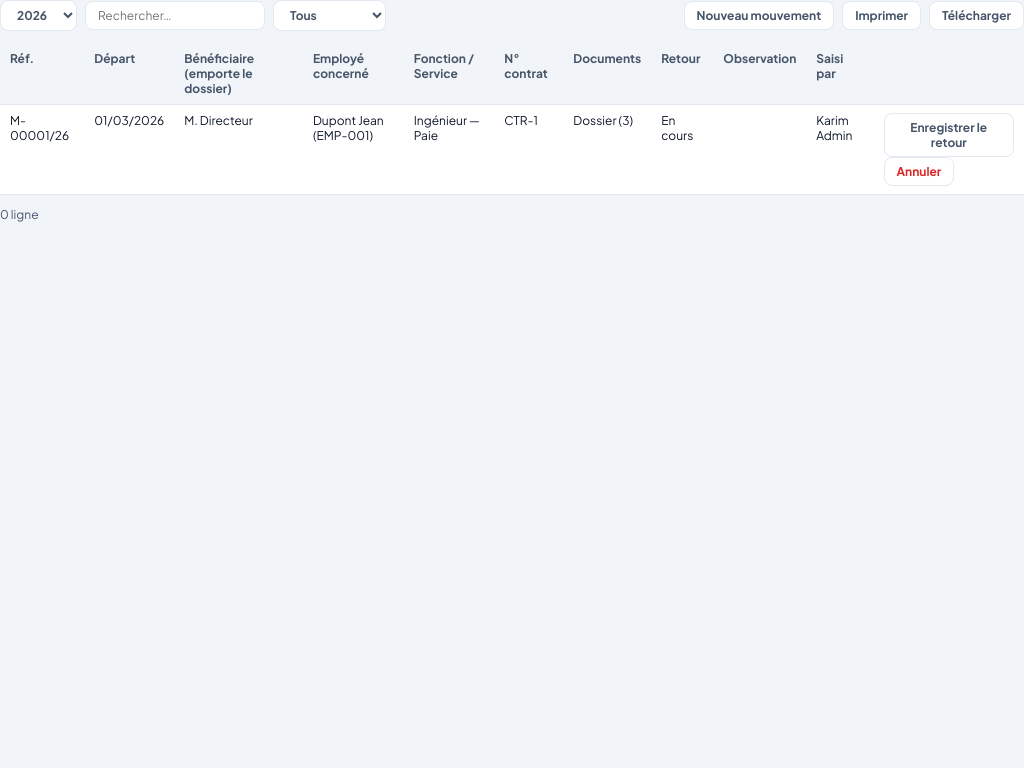
Test: MouvementsPanel — suppression définitive et messages d'erreur › le vrai message du serveur est affiché (erreur renvoyée sous forme de liste)
This screenshot has width=1024, height=768.
Click the button with aria-label "Annuler la ligne": (919, 172) left=884, top=157, right=954, bottom=186
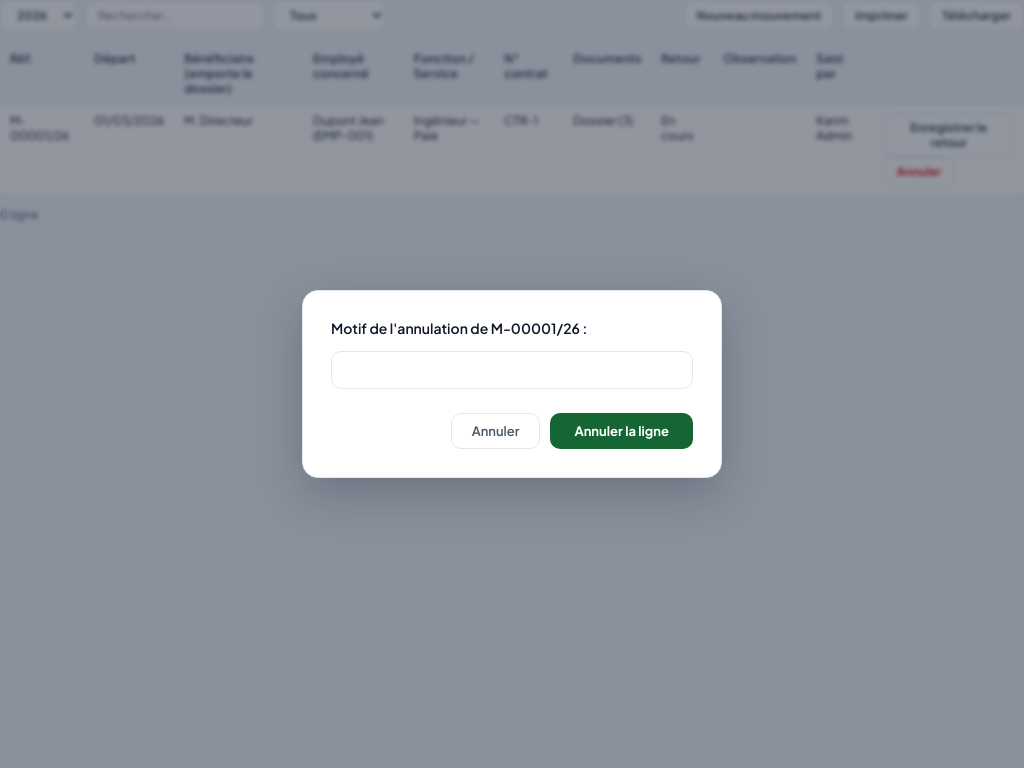
In the field: (512, 370) left=331, top=351, right=693, bottom=389, type "x"
Then press Enter
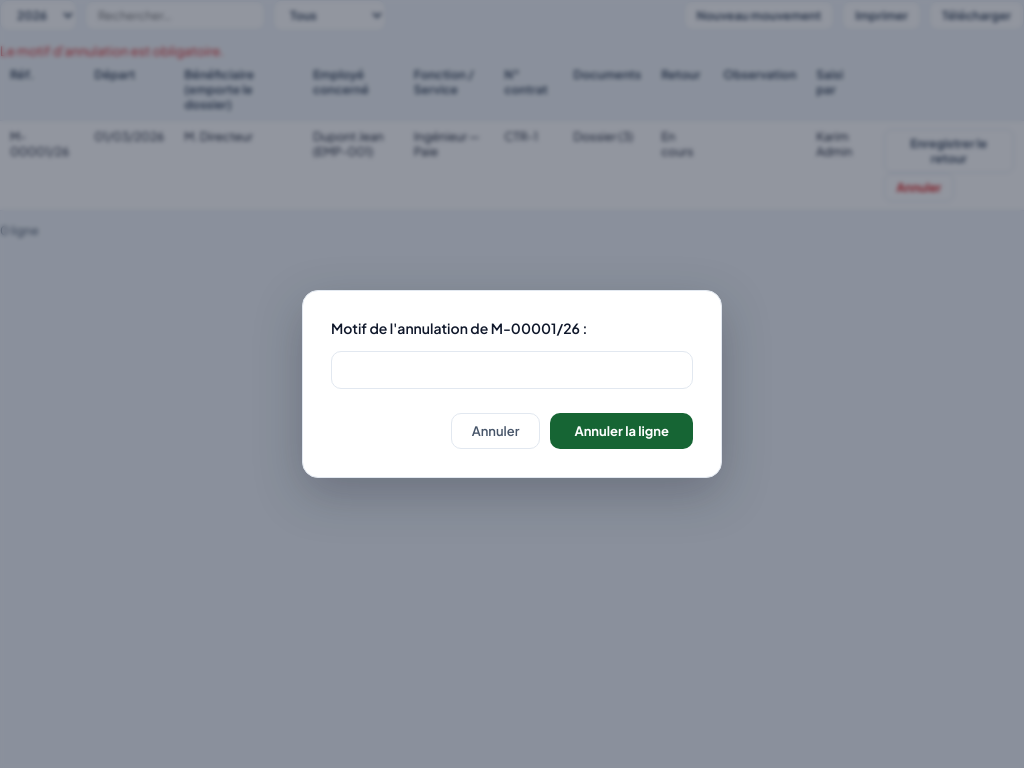
Result: the message reads "Le motif d'annulation est obligatoire." at left=0, top=43, right=224, bottom=59
